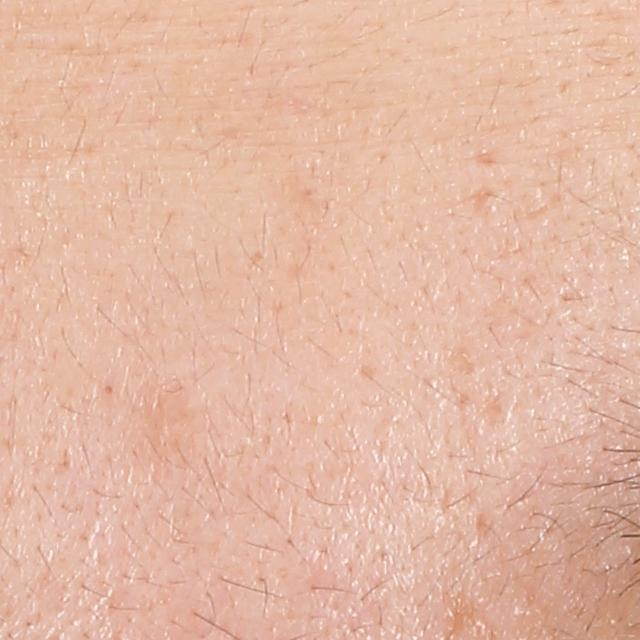atrophic_scar: (469, 183, 493, 217), (476, 148, 498, 166)
